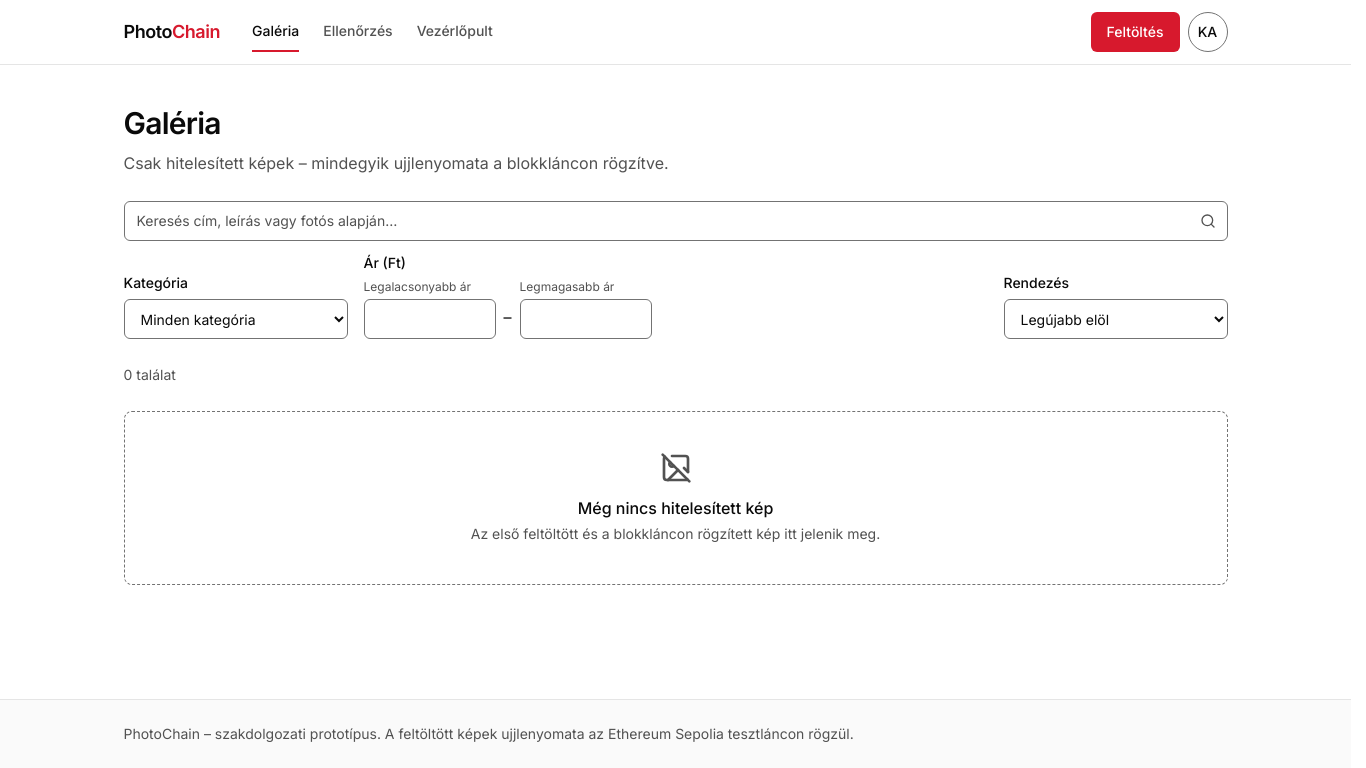
Test case: a fejléc fiókrésze › bejelentkezve monogramos fiókmenü-gomb (a látható felirat a név elején), lenyitva név, e-mail, kijelentkezés
The width and height of the screenshot is (1366, 768).
Click the button with aria-label "KA – fiókmenü" at {"x": 1208, "y": 32}, box [1188,12,1228,52]
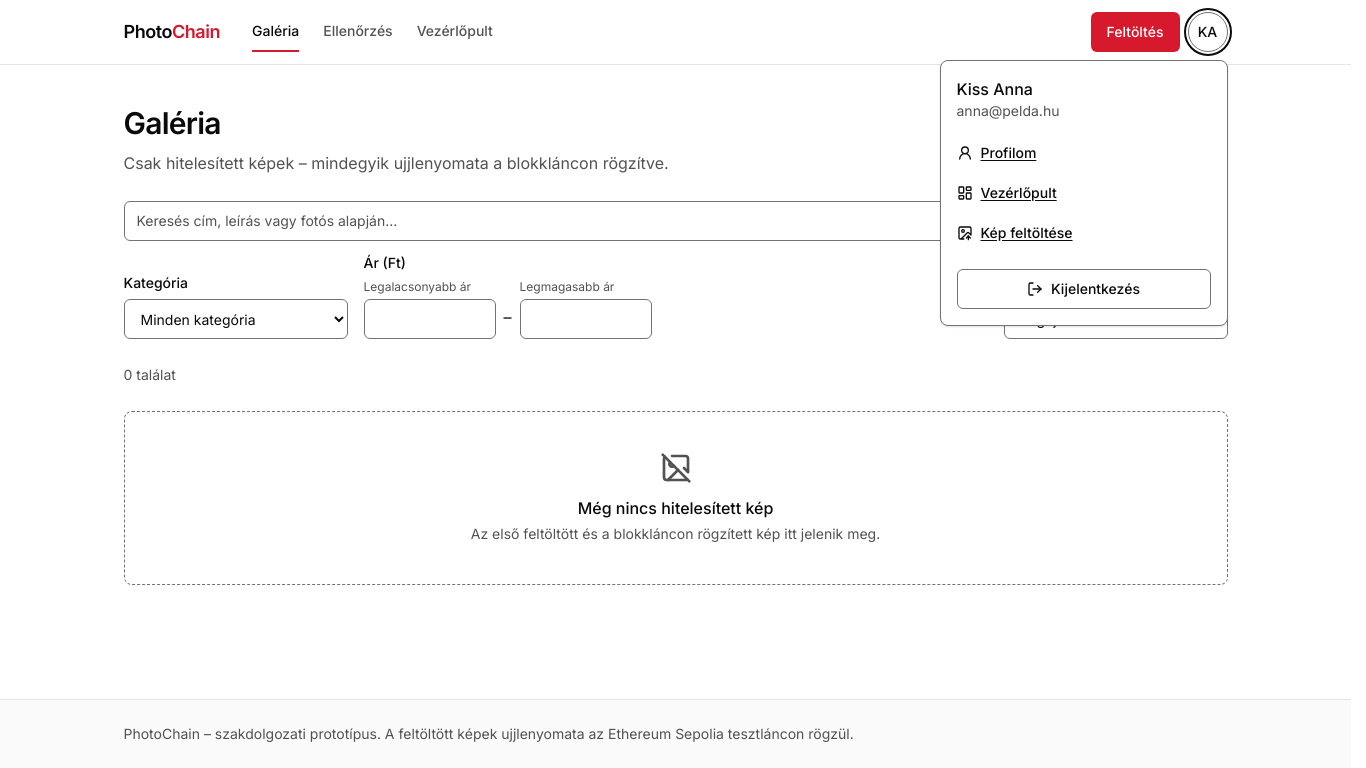
Expected: the button with aria-label "KA – fiókmenü" is expanded, [1188,12,1228,52]
Expected: the text "Kiss Anna" is shown, [956,79,1033,99]
Expected: the text "anna@pelda.hu" is shown, [956,102,1059,119]
